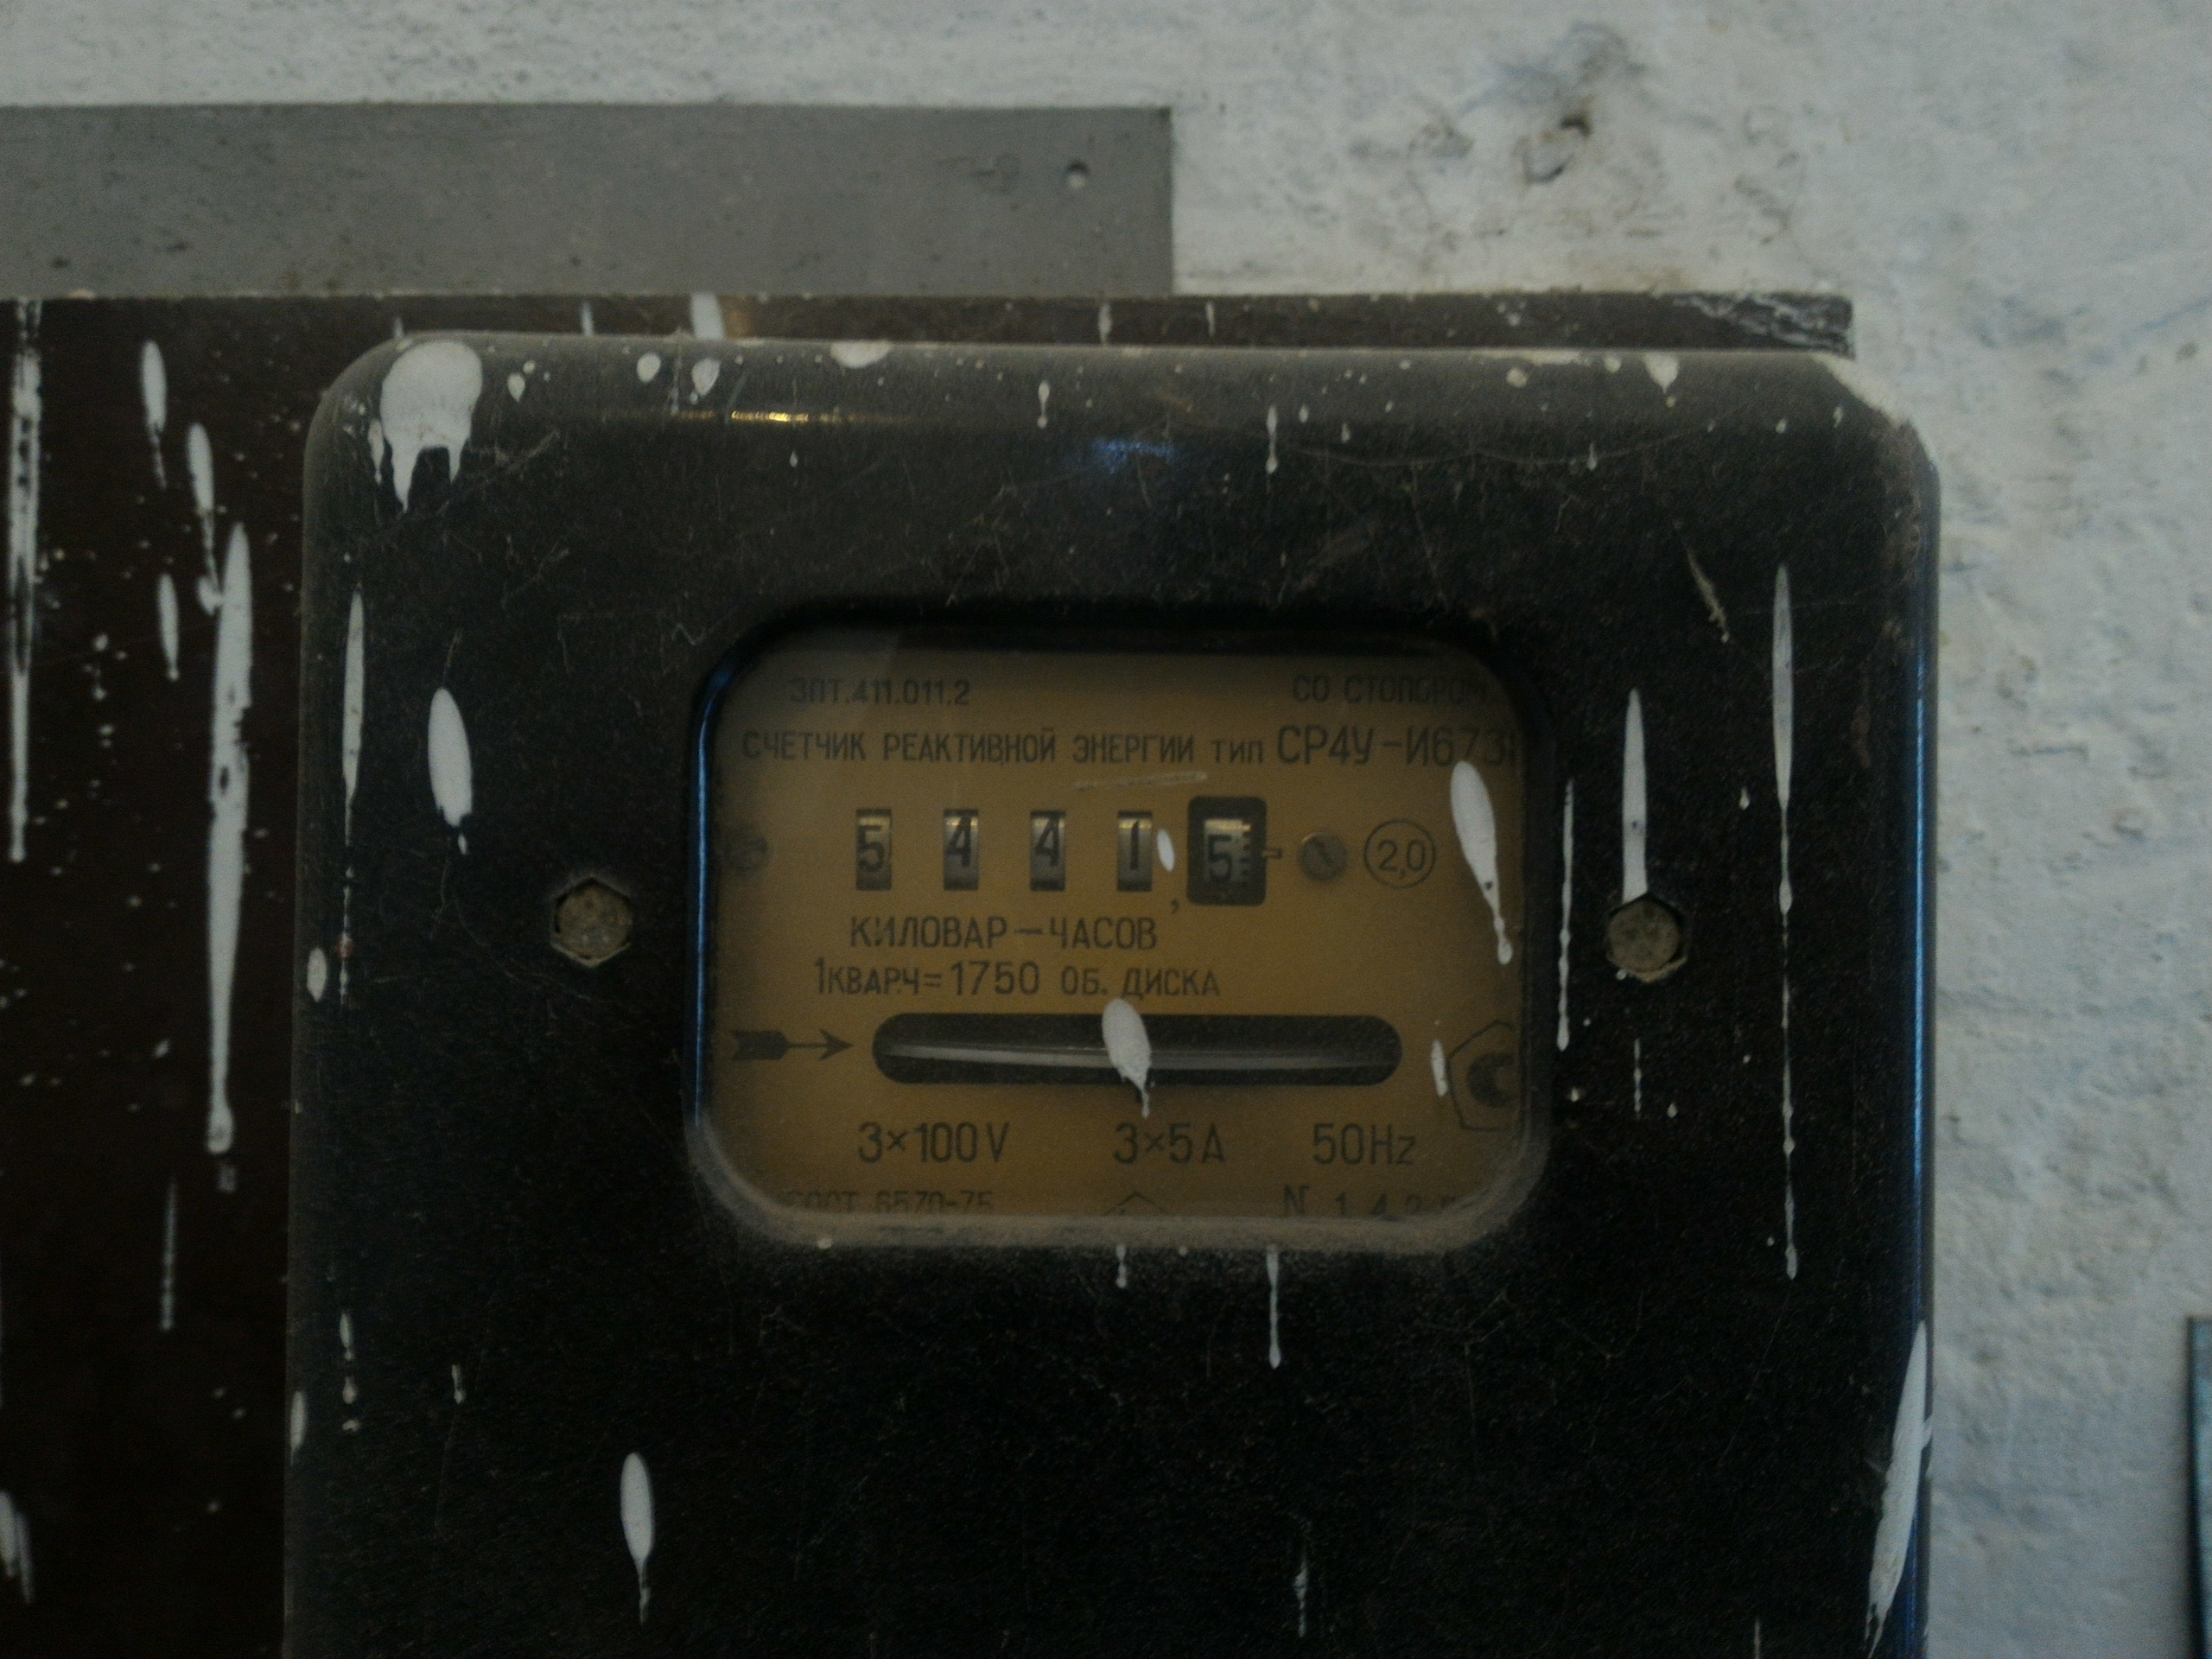1: (1118, 817, 1151, 875)
4: (1028, 812, 1066, 871), (942, 810, 977, 871)
5: (1202, 828, 1240, 894), (857, 819, 888, 877)
screen: (815, 781, 1294, 922)
